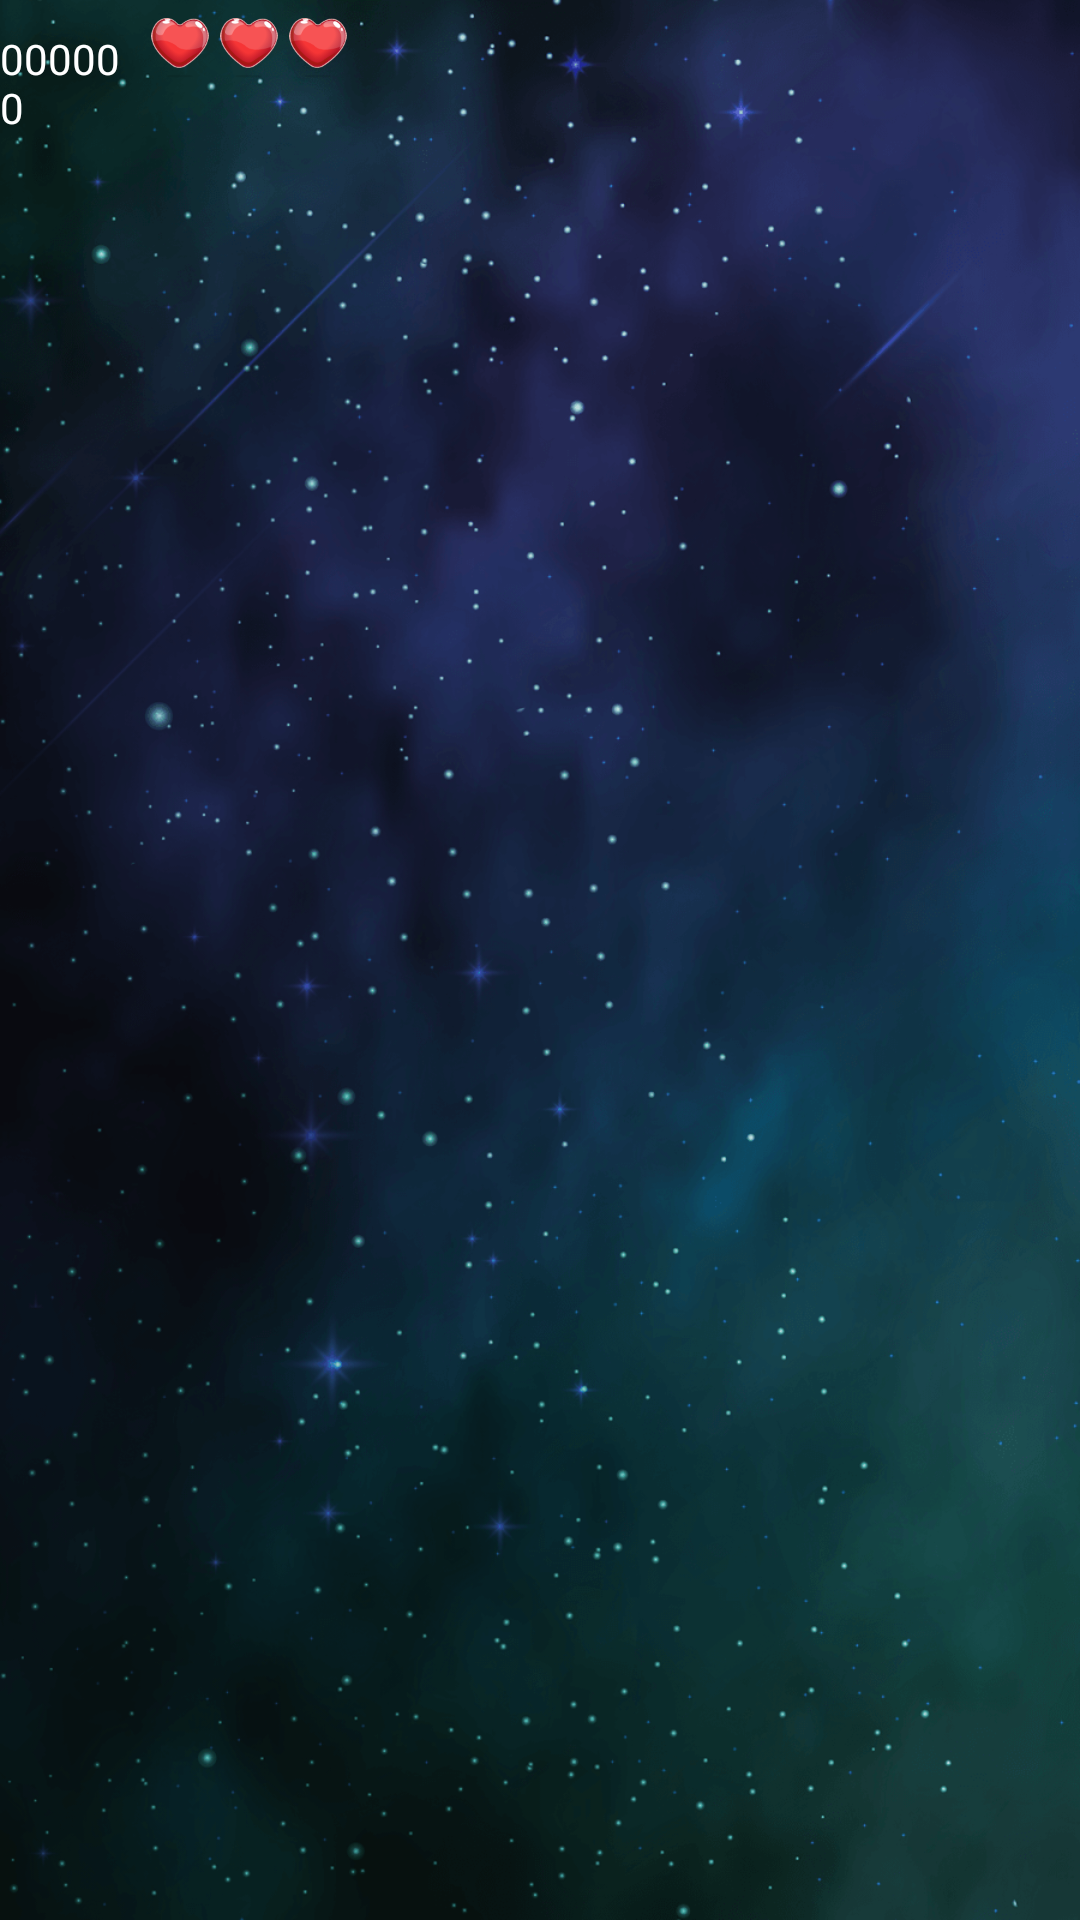

Screen size 1080*1920. Icon name, then its center in pixels as [x,y]:
heart: [180,43], [248,43], [318,48]
